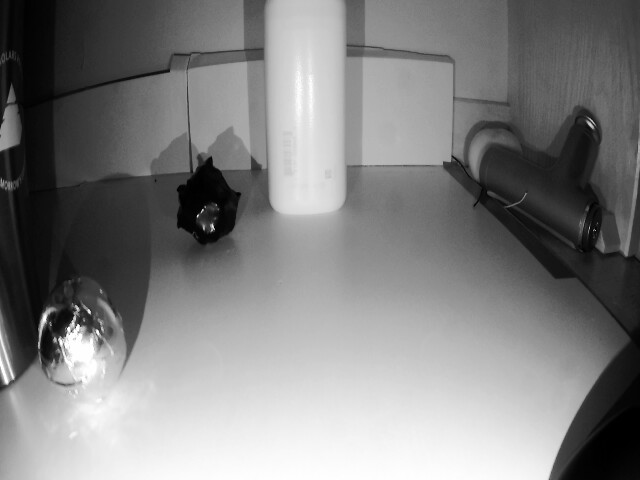black: (178, 169, 240, 242)
silver: (29, 271, 125, 392)
